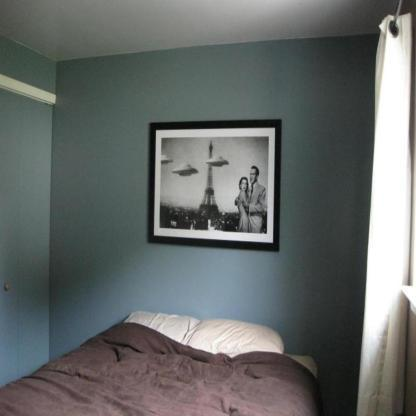Picture-frame: (150, 119, 282, 253)
